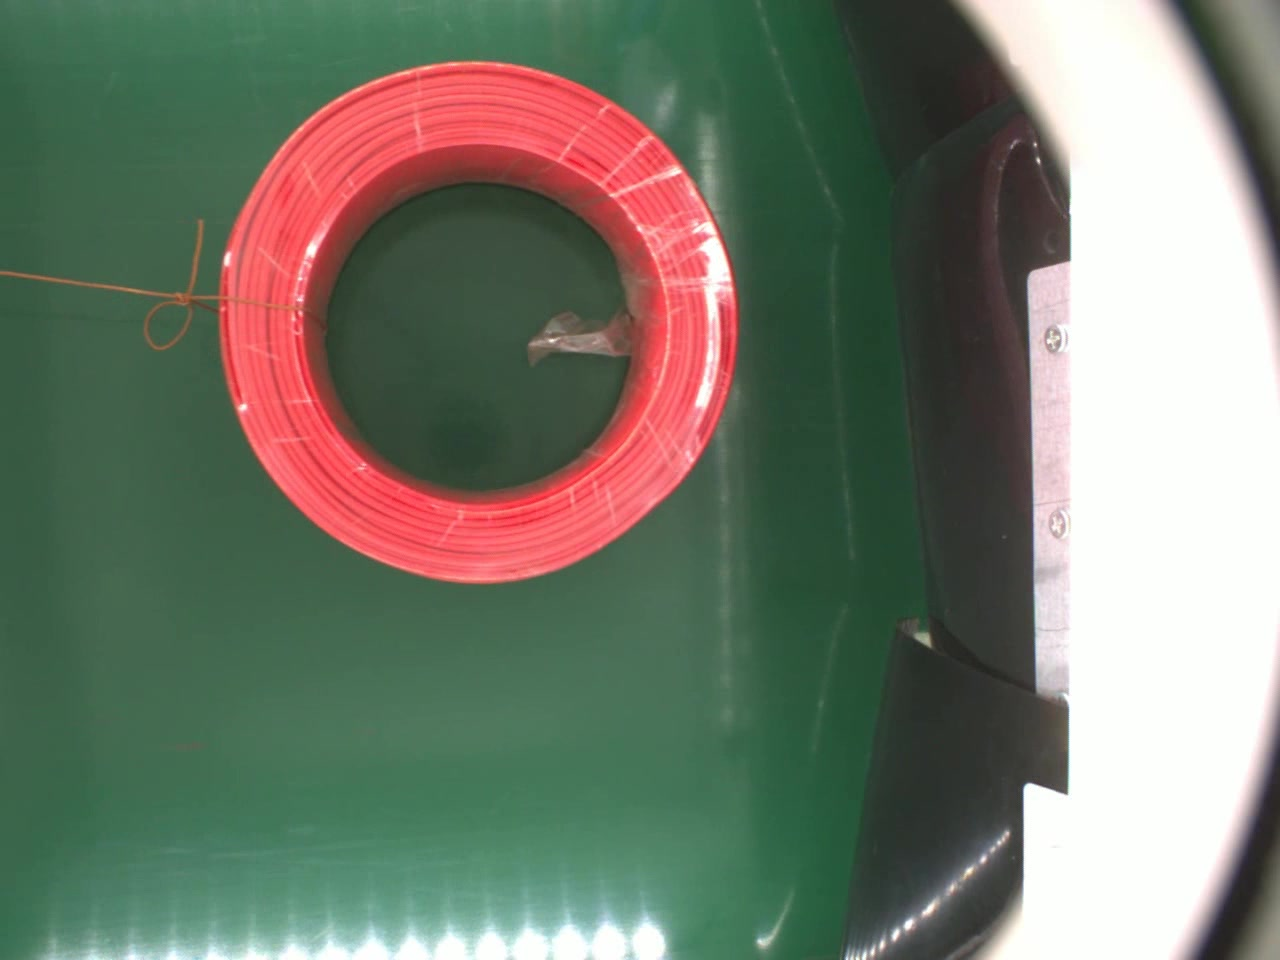red: (211, 57, 745, 586)
